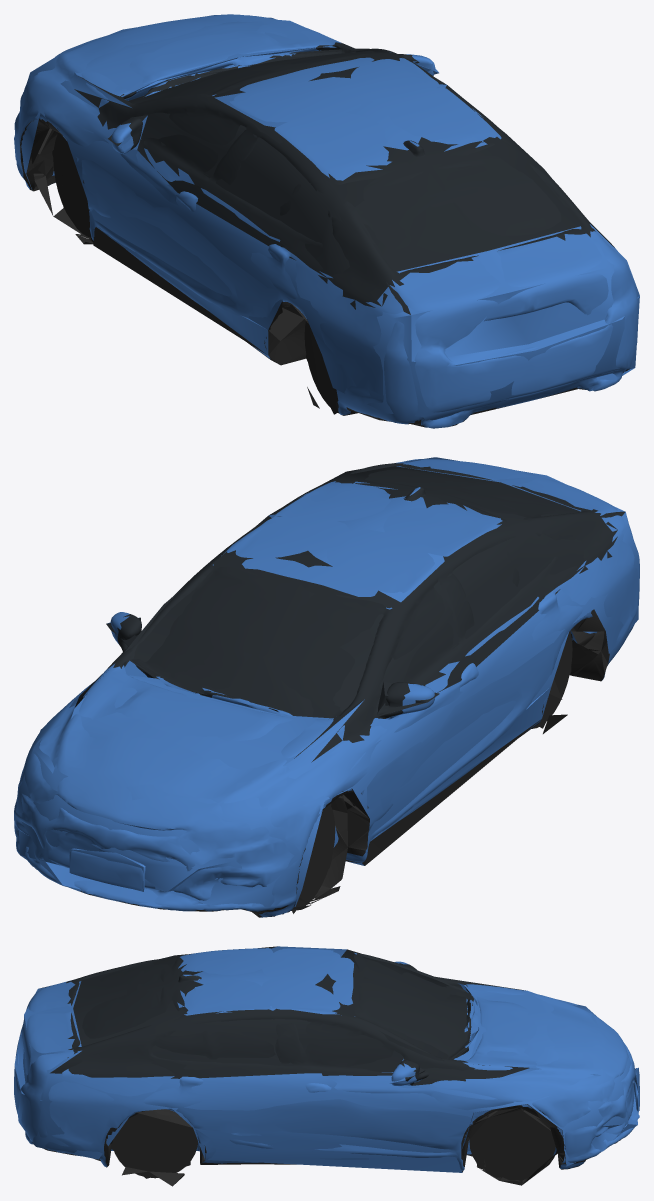
The model's file is chevrolet-malibu.glb.
3 renders of one model, top to bottom at view 1: azimuth 30°, elevation 25°; view 2: azimuth 150°, elevation 25°; view 3: azimuth 270°, elevation 25°, orthographic. The views are drawn at different scales.
Parts seen in each view (by area): view 1: body, far; view 2: body, far; view 3: body, far.
Boxes of the visible parts, <box> form: body: <box>14,14,638,428</box>; far: <box>14,15,639,420</box>; body: <box>14,459,639,917</box>; far: <box>16,457,638,913</box>; body: <box>14,948,639,1186</box>; far: <box>14,946,638,1185</box>.
Bounding box in the file's own units: 2.17 × 1.5 × 4.97.
